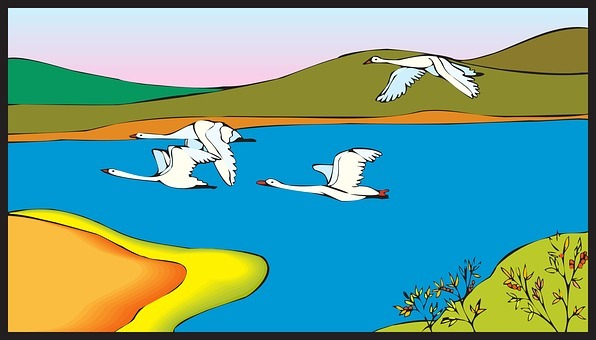bird: (246, 144, 395, 210), (125, 115, 262, 186), (354, 46, 484, 112), (90, 142, 220, 199)
